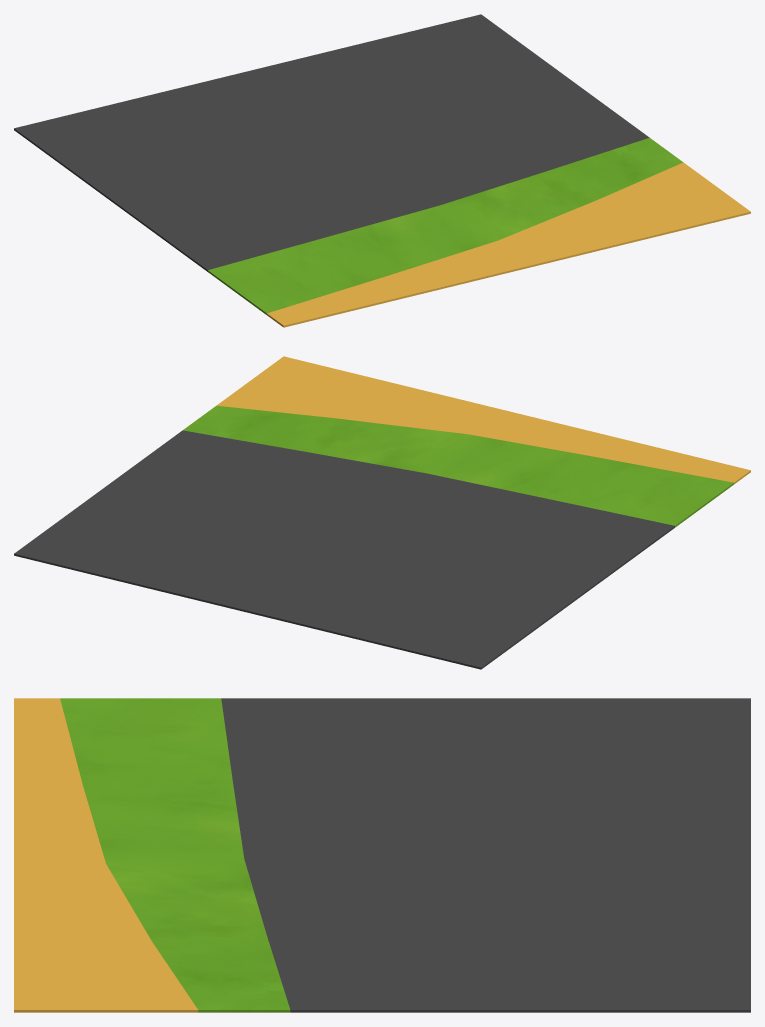
3 views of the same model, one above another, from view 1: azimuth 30°, elevation 25°; view 2: azimuth 150°, elevation 25°; view 3: azimuth 270°, elevation 25° (orthographic). The views are drawn at different scales.
Parts seen in each view (by area): view 1: 01_street_base_plate-COL.040; view 2: 01_street_base_plate-COL.040; view 3: 01_street_base_plate-COL.040.
Part boxes in pixels (bbox=[...]): 01_street_base_plate-COL.040: bbox=[14, 14, 750, 327]; 01_street_base_plate-COL.040: bbox=[14, 356, 750, 669]; 01_street_base_plate-COL.040: bbox=[14, 698, 750, 1012].
Size of the model in its own units: 256 by 1 by 256.
Materials: 3 (1 with a texture image).
